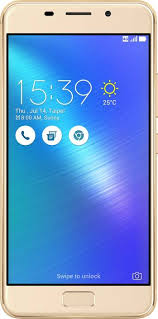asus: (1, 1, 158, 319)
